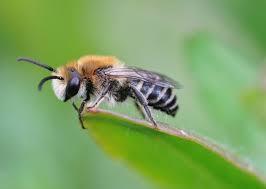Apis-mellifera-scutellata: (11, 43, 184, 135)
